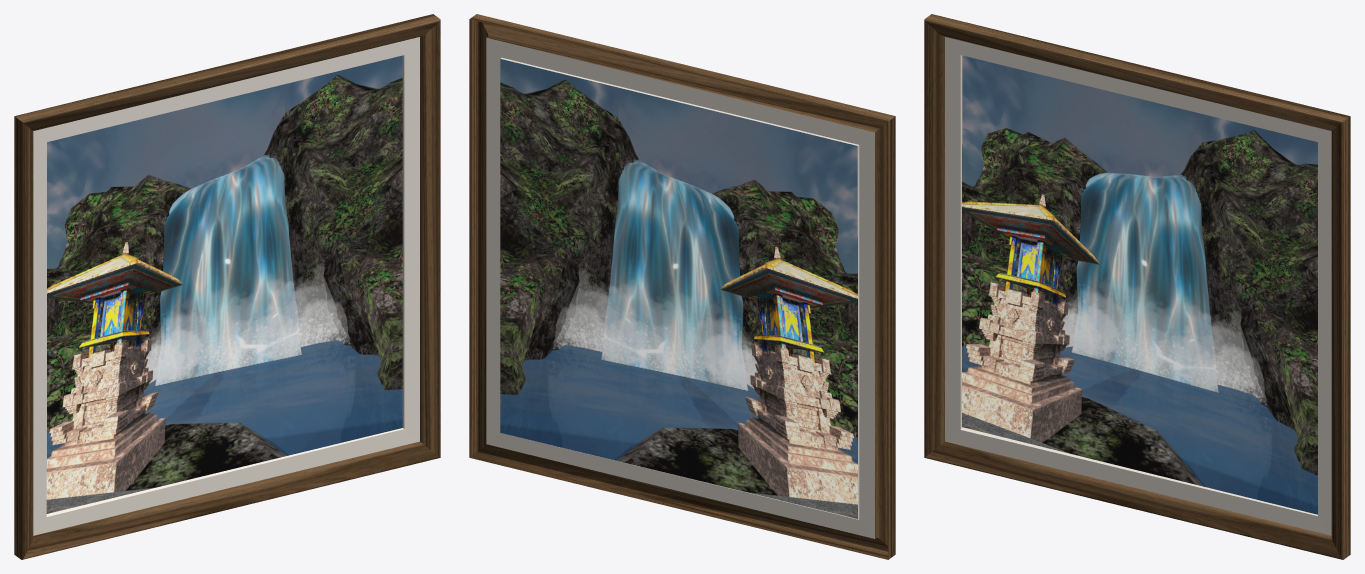
File: artwork02.glb
The picture shows the model from 3 angles, left to right: view 1: azimuth 30°, elevation 25°; view 2: azimuth 150°, elevation 25°; view 3: azimuth 330°, elevation 25°; orthographic projection.
Parts seen in each view (by area): view 1: artimage, frame; view 2: artimage, frame; view 3: artimage, frame.
Part boxes in pixels (x1,y1,x2,y2): artimage: (46, 55, 402, 513); frame: (14, 14, 440, 559); artimage: (500, 59, 857, 518); frame: (469, 14, 895, 559); artimage: (962, 55, 1317, 514); frame: (924, 14, 1350, 559).
Bounding box in the file's own units: 3.71 × 3.71 × 0.1196.
2 materials, 2 textured.
